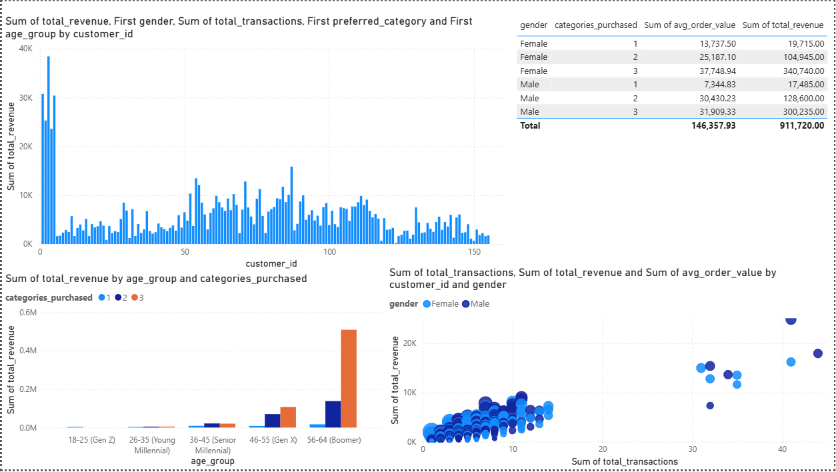

What the dashboard file says about the page in this screenshot:
{"tool":"powerbi","page":{"name":"Page 3","canvas":[1280,720],"ordinal":2},"visuals":[{"type":"clusteredColumnChart","fields":{"Category":["public vw_customer_summary.customer_id"],"Y":["Sum(public vw_customer_summary.total_revenue)"]},"box":[0,20,786,396],"z":0},{"type":"clusteredColumnChart","fields":{"Category":["public vw_customer_summary.age_group"],"Y":["Sum(public vw_customer_summary.total_revenue)"],"Series":["public vw_customer_summary.categories_purchased"]},"box":[0,416,590,304],"z":1000},{"type":"scatterChart","fields":{"Size":["Sum(public vw_customer_summary.avg_order_value)"],"Series":["public vw_customer_summary.gender"],"X":["Sum(public vw_customer_summary.total_transactions)"],"Y":["Sum(public vw_customer_summary.total_revenue)"],"Category":["public vw_customer_summary.customer_id"]},"box":[590,406,690,314],"z":2000},{"type":"tableEx","fields":{"Values":["public vw_customer_summary.gender","public vw_customer_summary.categories_purchased","Sum(public vw_customer_summary.avg_order_value)","Sum(public vw_customer_summary.total_revenue)"]},"box":[786,20,494,198],"z":3000}]}

Visuals, with their boxes in screenshot pixels (x1, y1, x2, y2), scaled from the page's 1280x720 canvas onto the 836x472 screenshot:
clusteredColumnChart - public vw_customer_summary.customer_id x Sum(public vw_customer_summary.total_revenue): x1=0 y1=13 x2=513 y2=273
clusteredColumnChart - public vw_customer_summary.age_group x Sum(public vw_customer_summary.total_revenue): x1=0 y1=273 x2=385 y2=471
scatterChart - Sum(public vw_customer_summary.avg_order_value) x public vw_customer_summary.gender: x1=385 y1=266 x2=835 y2=471
tableEx - public vw_customer_summary.gender x public vw_customer_summary.categories_purchased: x1=513 y1=13 x2=835 y2=143
